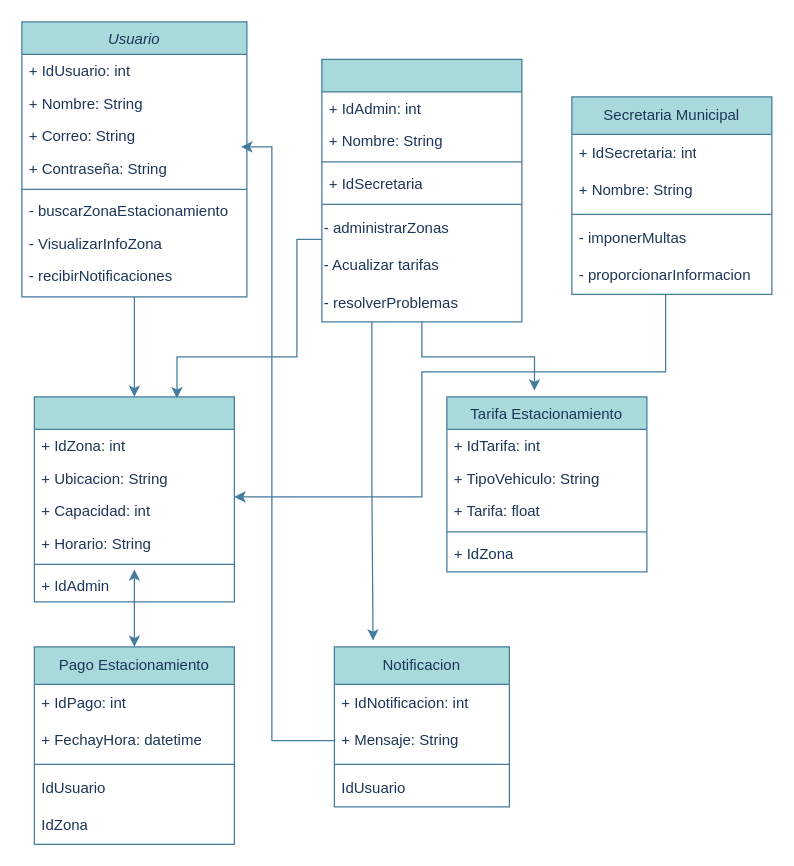
Some shapes in this 794 by 866 pixel diagram are drawn without their labels. Each missing label, with the box of its shape:
Administrador: (321, 58, 522, 322)
Zona Estacionamiento: (33, 396, 234, 602)
